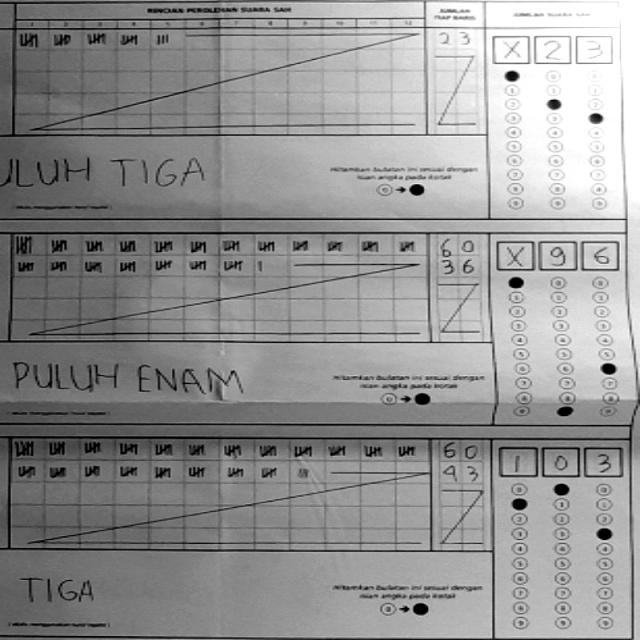Suara: (490, 440, 615, 478), (490, 240, 624, 272), (492, 26, 610, 61)
